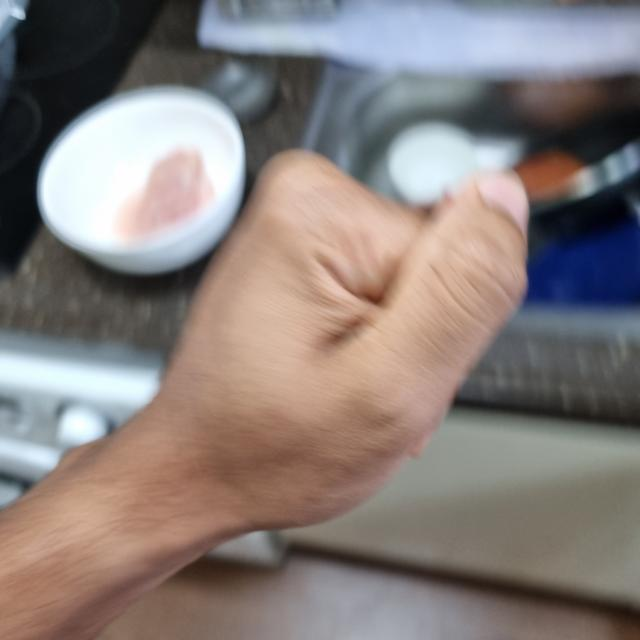Rock: (153, 150, 527, 531)
